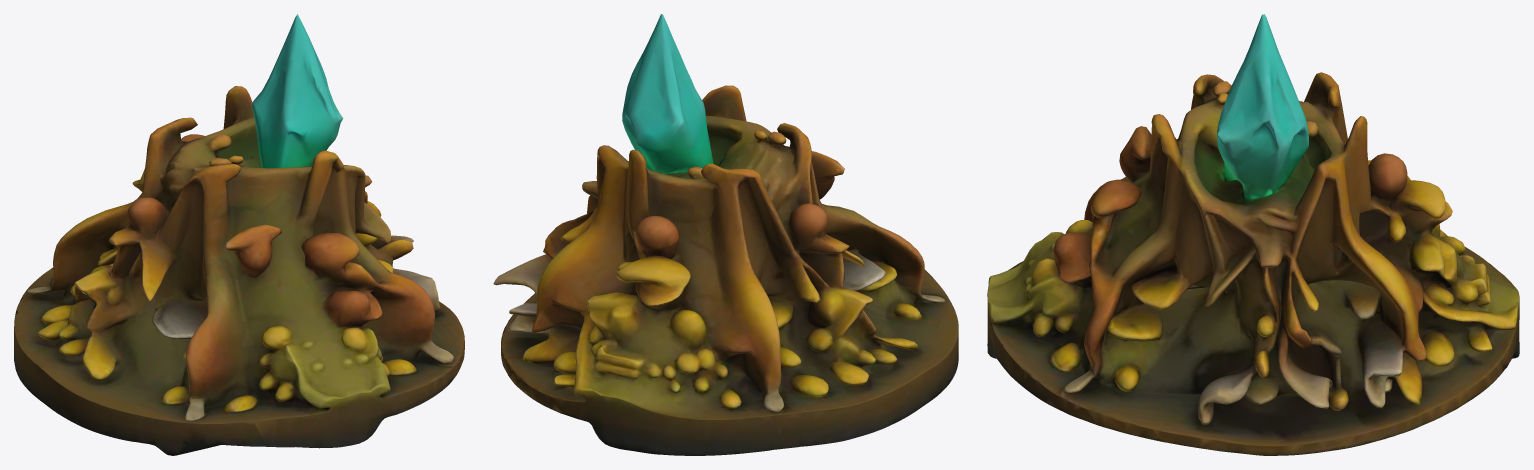
File: grassland-base-1.glb
3 renders of one model, left to right at view 1: azimuth 30°, elevation 25°; view 2: azimuth 150°, elevation 25°; view 3: azimuth 270°, elevation 25°, orthographic. The views are drawn at different scales.
Visible parts, largest first — view 1: tripo_node_29bdc554-103c-4c63-9564-78a8519a79f2; view 2: tripo_node_29bdc554-103c-4c63-9564-78a8519a79f2; view 3: tripo_node_29bdc554-103c-4c63-9564-78a8519a79f2.
Boxes of the visible parts, bbox=[...] form: tripo_node_29bdc554-103c-4c63-9564-78a8519a79f2: bbox=[14, 14, 464, 455]; tripo_node_29bdc554-103c-4c63-9564-78a8519a79f2: bbox=[493, 14, 958, 455]; tripo_node_29bdc554-103c-4c63-9564-78a8519a79f2: bbox=[987, 14, 1519, 455].
Size of the model in its own units: 0.9792 by 0.7904 by 1.
1 material, 1 textured.
